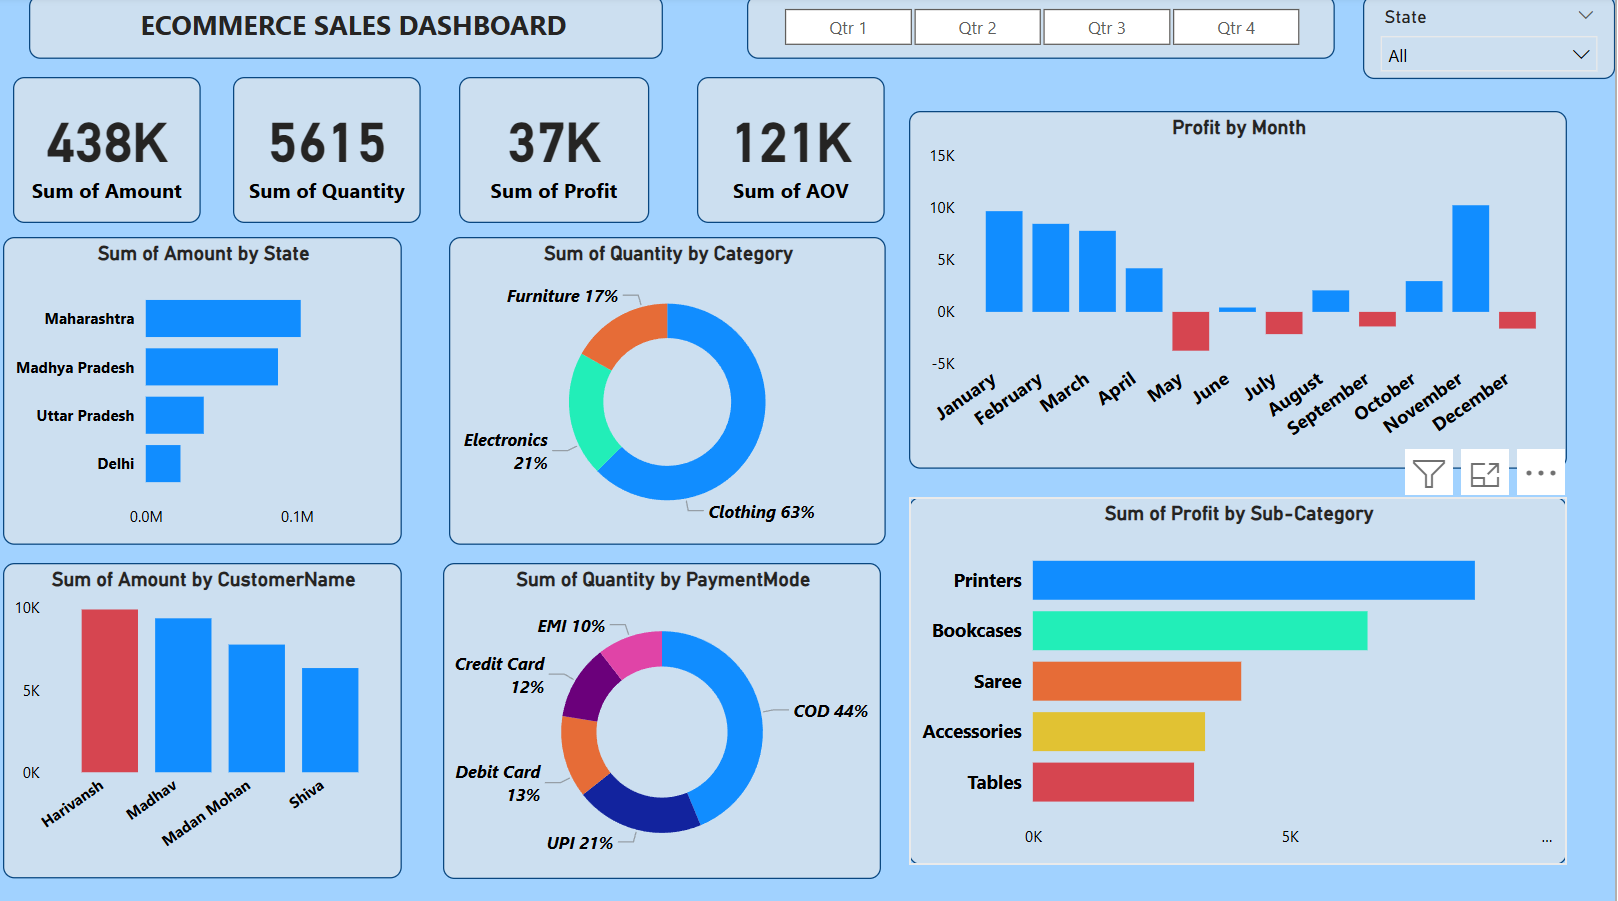

What the dashboard file says about the page in this screenshot:
{"tool":"powerbi","page":{"name":"Page 1","canvas":[1280,720],"ordinal":0},"visuals":[{"type":"textbox","box":[25.3,0,501.6,50.6],"z":0},{"type":"columnChart","title":" Profit by Month","fields":{"Y":["Details.Profit"],"Category":["Orders.Order Date.Variation.Date Hierarchy.Month"]},"box":[721.5,91.8,520.5,283.2],"z":1000},{"type":"barChart","fields":{"Category":["Details.Sub-Category"],"Y":["Details.Profit"]},"box":[721.5,397.1,520.5,291.1],"z":2000},{"type":"donutChart","fields":{"Category":["Details.Category"],"Y":["Details.Quantity"]},"box":[357.4,191.7,345.5,243.6],"z":3000},{"type":"donutChart","fields":{"Y":["Details.Quantity"],"Category":["Details.PaymentMode"]},"box":[352.8,449.3,346.5,250],"z":4000},{"type":"card","fields":{"Values":["Details.Amount"]},"box":[12.7,64.9,148.7,115.5],"z":5000},{"type":"card","fields":{"Values":["Details.Quantity"]},"box":[186.7,64.9,148.7,115.5],"z":6000},{"type":"card","fields":{"Values":["Details.Profit"]},"box":[365.5,64.9,150.3,115.5],"z":7000},{"type":"card","fields":{"Values":["Details.AOV"]},"box":[553.8,64.9,148.7,115.5],"z":8000},{"type":"barChart","fields":{"Category":["Orders.State"],"Y":["Details.Amount"]},"box":[4,191.7,315.5,243.6],"z":9000},{"type":"columnChart","fields":{"Category":["Orders.CustomerName"],"Y":["Details.Amount"]},"box":[4,449.3,315.5,249.6],"z":10000},{"type":"slicer","fields":{"Values":["Orders.Order Date.Variation.Date Hierarchy.Quarter"]},"box":[593.3,0,465.2,50.6],"z":11000},{"type":"slicer","fields":{"Values":["Orders.State"]},"box":[1080.6,0,199.4,66.5],"z":12000}]}

Visuals, with their boxes in screenshot pixels (x1, y1, x2, y2), scaled from the page's 1280x720 canvas onto the 1618x901 screenshot:
textbox: left=32, top=0, right=666, bottom=63
" Profit by Month" columnChart: left=912, top=115, right=1570, bottom=469
barChart - Details.Sub-Category x Details.Profit: left=912, top=497, right=1570, bottom=861
donutChart - Details.Category x Details.Quantity: left=452, top=240, right=889, bottom=545
donutChart - Details.Quantity x Details.PaymentMode: left=446, top=562, right=884, bottom=875
card - Details.Amount: left=16, top=81, right=204, bottom=226
card - Details.Quantity: left=236, top=81, right=424, bottom=226
card - Details.Profit: left=462, top=81, right=652, bottom=226
card - Details.AOV: left=700, top=81, right=888, bottom=226
barChart - Orders.State x Details.Amount: left=5, top=240, right=404, bottom=545
columnChart - Orders.CustomerName x Details.Amount: left=5, top=562, right=404, bottom=875
slicer - Orders.Order Date.Variation.Date Hierarchy.Quarter: left=750, top=0, right=1338, bottom=63
slicer - Orders.State: left=1366, top=0, right=1617, bottom=83
